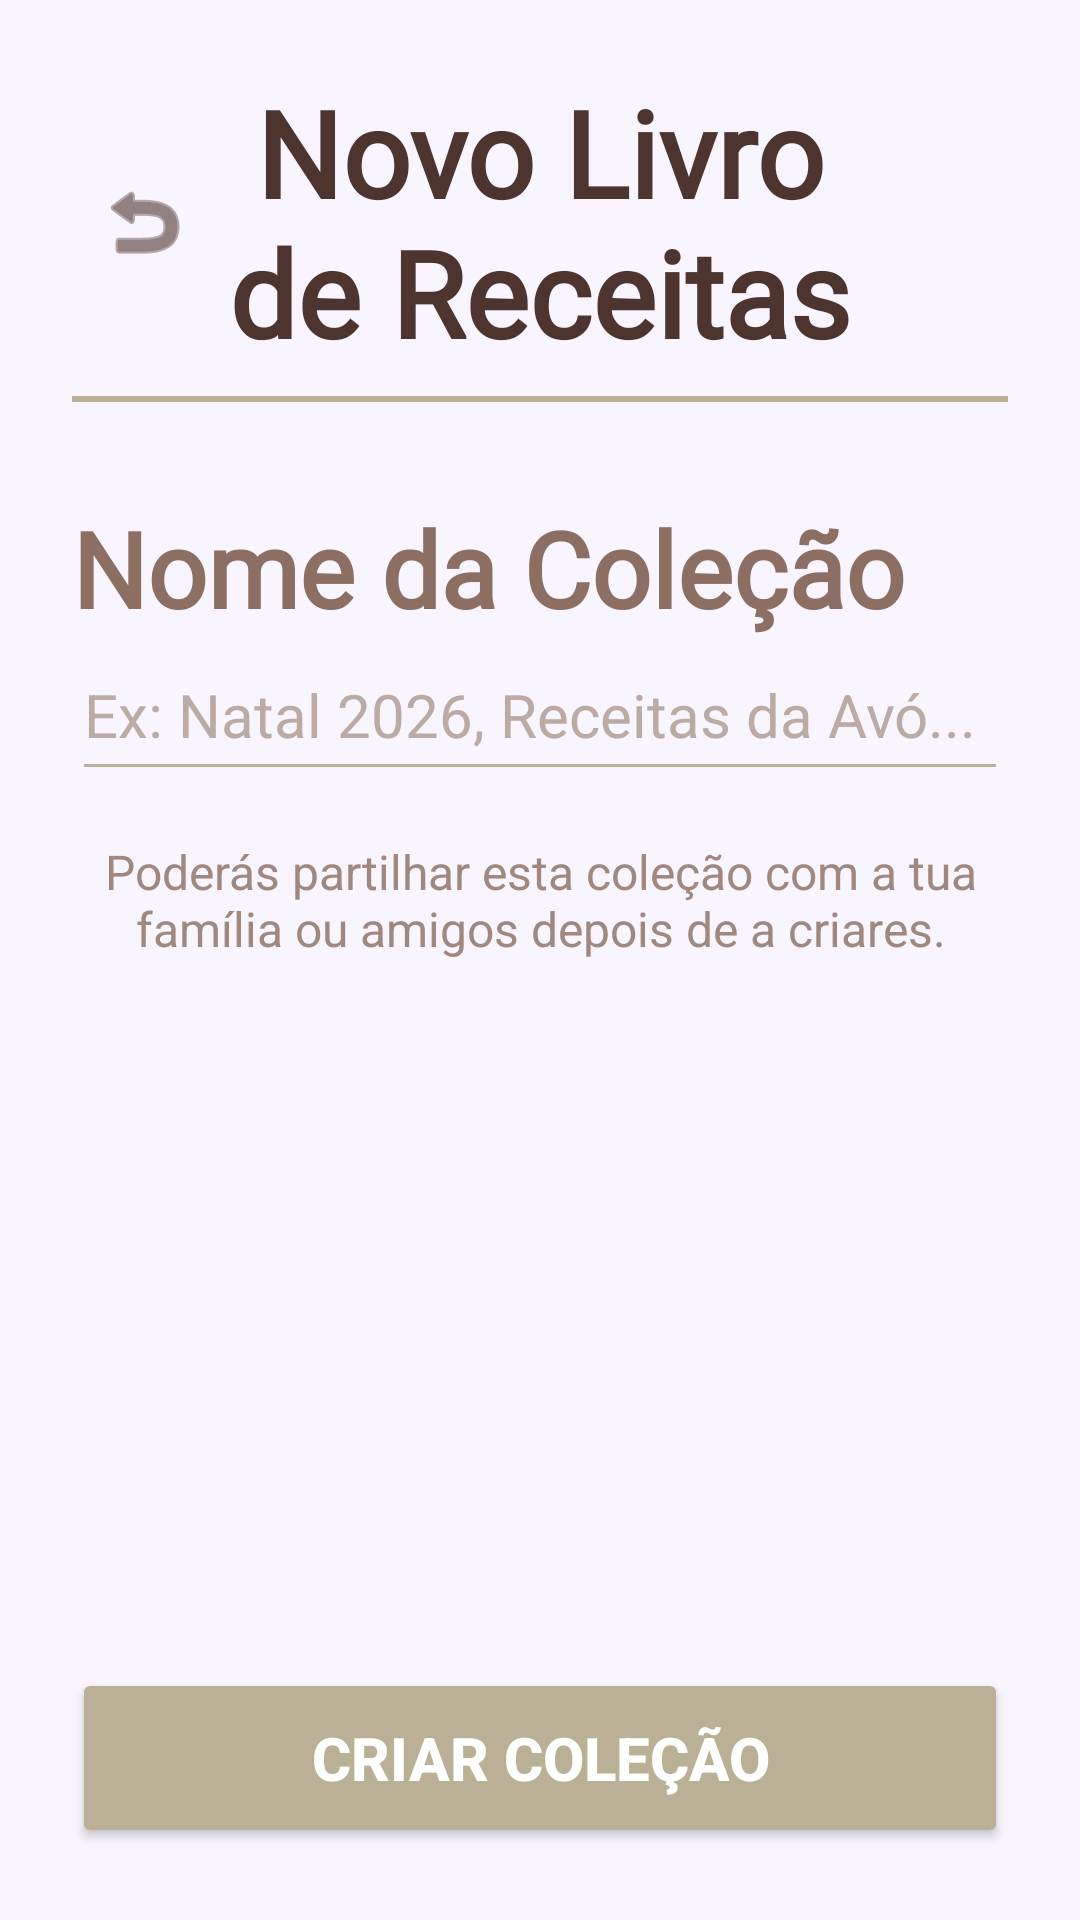

Point at icon controls on the screen. Image size 1080px x 1920px, points as point (x, y).
Voltar: point (145, 222)
